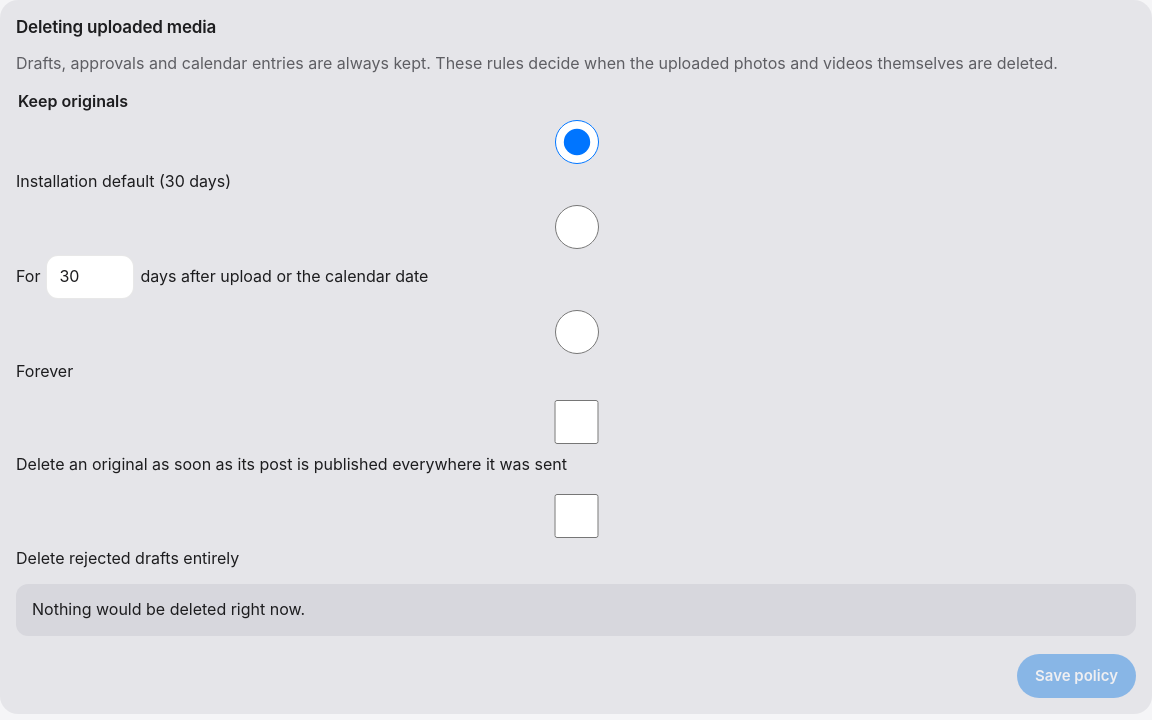
Retention settings › previews what a change would delete before it is saved, then saves it
Expected: the text "Nothing would be deleted right now." is shown, [16,584,1136,636]
Expected: the button "Save policy" is disabled, [1017,654,1136,698]
Replace the text in the number field named "Days to keep originals" with "7" at (90,277), box [46,255,134,299]
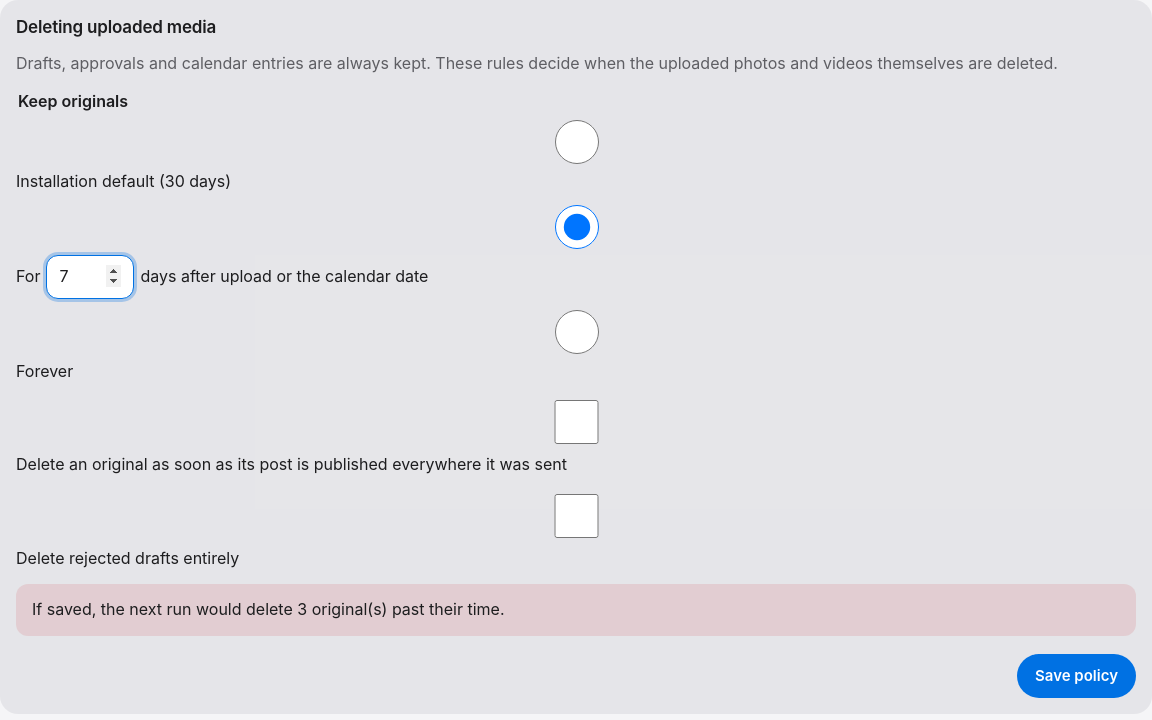
Expected: the text "If saved, the next run would delete 3 original(s) past their time." is shown, [16,584,1136,636]
Click the button "Save policy" at (1077,676), box [1017,654,1136,698]
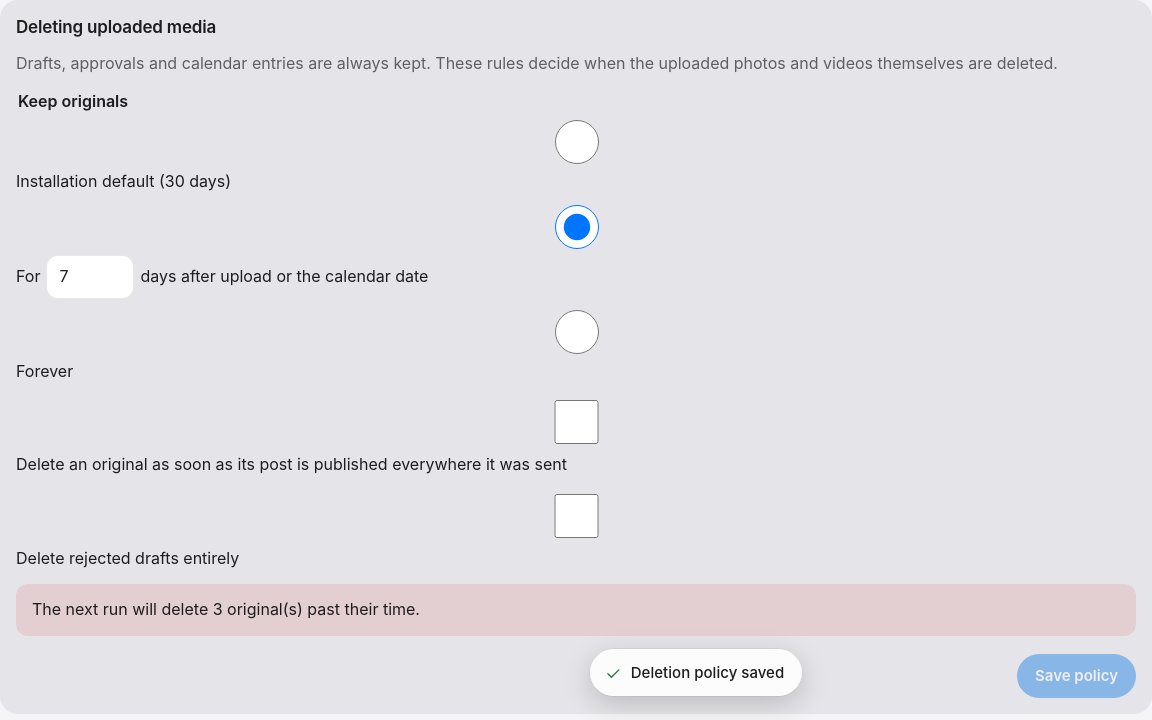
Expected: the text "The next run will delete 3 original(s) past their time." is shown, [16,584,1136,636]
